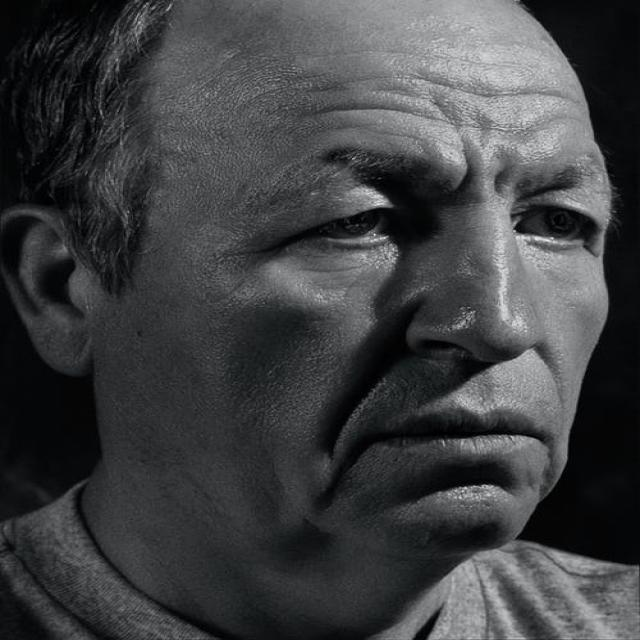Wrinkles: (334, 76, 484, 95), (446, 112, 475, 192), (525, 116, 578, 130), (423, 115, 457, 126), (309, 109, 389, 113), (395, 52, 455, 57), (485, 63, 531, 69), (319, 51, 364, 56), (455, 57, 482, 63), (396, 110, 423, 115), (364, 50, 382, 51)
